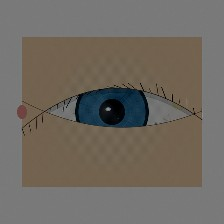pinguecula_lesion: (165, 93, 194, 116)
